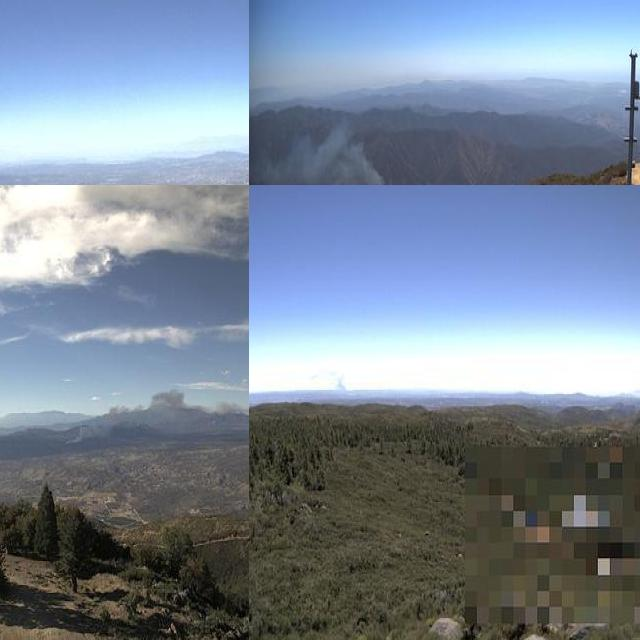smoke: (54, 385, 241, 448), (249, 117, 407, 185), (330, 375, 350, 394)
